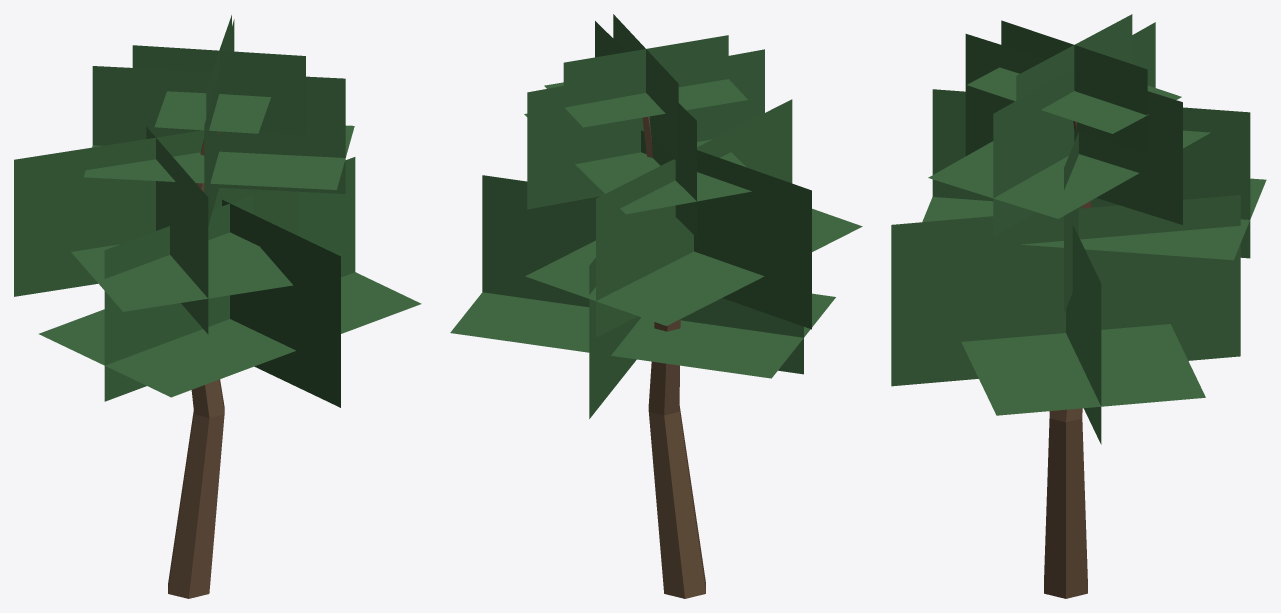
The model's file is tree-pine.glb.
3 renders of one model, left to right at view 1: azimuth 30°, elevation 25°; view 2: azimuth 150°, elevation 25°; view 3: azimuth 270°, elevation 25°, orthographic. The views are drawn at different scales.
Visible parts, largest first — view 1: tree-pine; view 2: tree-pine; view 3: tree-pine.
Boxes of the visible parts, x1,y1,x2,y2 form: tree-pine: (14,15,421,598); tree-pine: (450,14,862,598); tree-pine: (891,14,1266,598).
Size of the model in its own units: 5.08 by 7.3 by 4.42.
